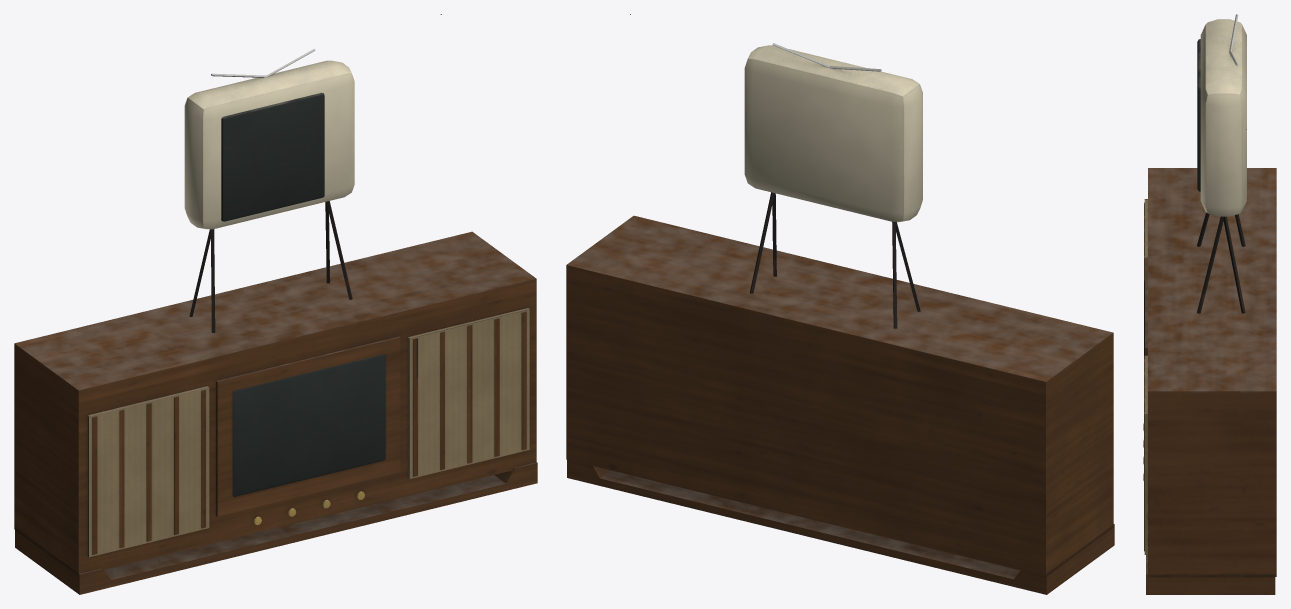
File: H_TVConsole_WithTV.fbx
The picture shows the model from 3 angles, left to right: view 1: azimuth 30°, elevation 25°; view 2: azimuth 150°, elevation 25°; view 3: azimuth 270°, elevation 25°; orthographic projection. The views are drawn at different scales.
Parts seen in each view (by area): view 1: H_TVConsole_WithTV__H_TVConsole, H_TVConsole_WithTV__H_TV, H_TVConsole_WithTV__H_TV_Screen; view 2: H_TVConsole_WithTV__H_TVConsole, H_TVConsole_WithTV__H_TV; view 3: H_TVConsole_WithTV__H_TVConsole, H_TVConsole_WithTV__H_TV, H_TVConsole_WithTV__H_TV_Screen.
Boxes of the visible parts, <box> form: H_TVConsole_WithTV__H_TVConsole: <box>14,231,537,594</box>; H_TVConsole_WithTV__H_TV: <box>184,14,441,332</box>; H_TVConsole_WithTV__H_TV_Screen: <box>221,92,324,221</box>; H_TVConsole_WithTV__H_TVConsole: <box>566,215,1114,594</box>; H_TVConsole_WithTV__H_TV: <box>630,14,922,328</box>; H_TVConsole_WithTV__H_TVConsole: <box>1143,168,1276,594</box>; H_TVConsole_WithTV__H_TV: <box>1197,14,1246,313</box>; H_TVConsole_WithTV__H_TV_Screen: <box>1197,39,1200,191</box>.
Size of the model in its own units: 800 by 742 by 202.
2 materials, 2 textured.
